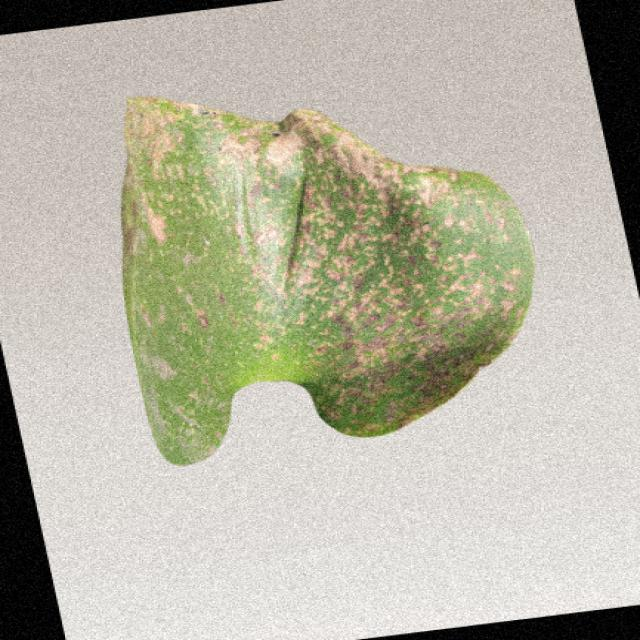daun berpenyakit bercak: (122, 98, 533, 465)
